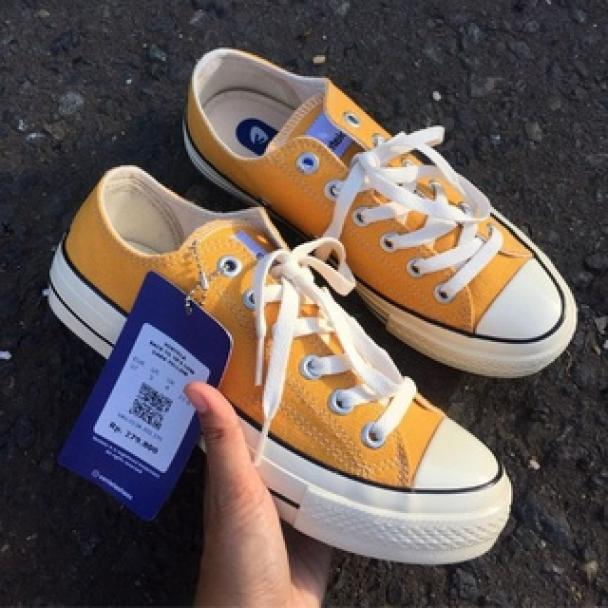Sepatu: (16, 145, 547, 608), (156, 29, 601, 424)
